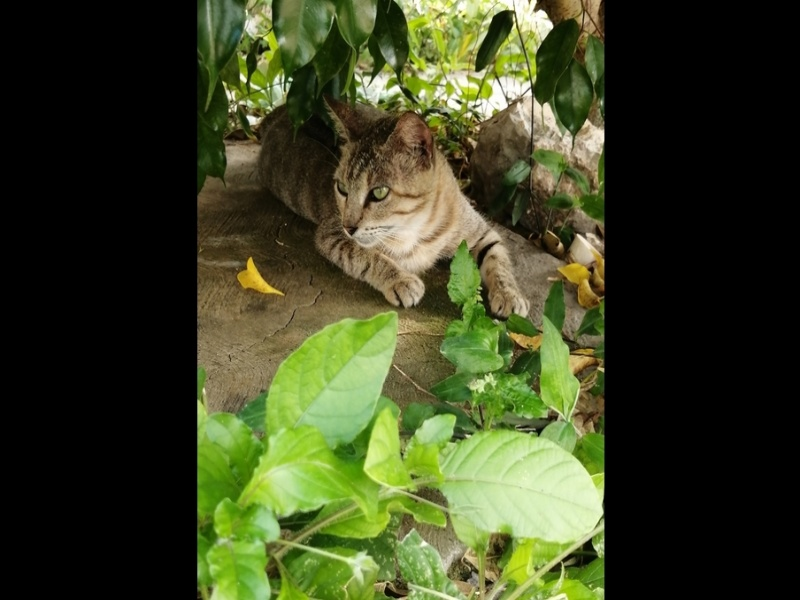cat: (255, 97, 533, 322)
